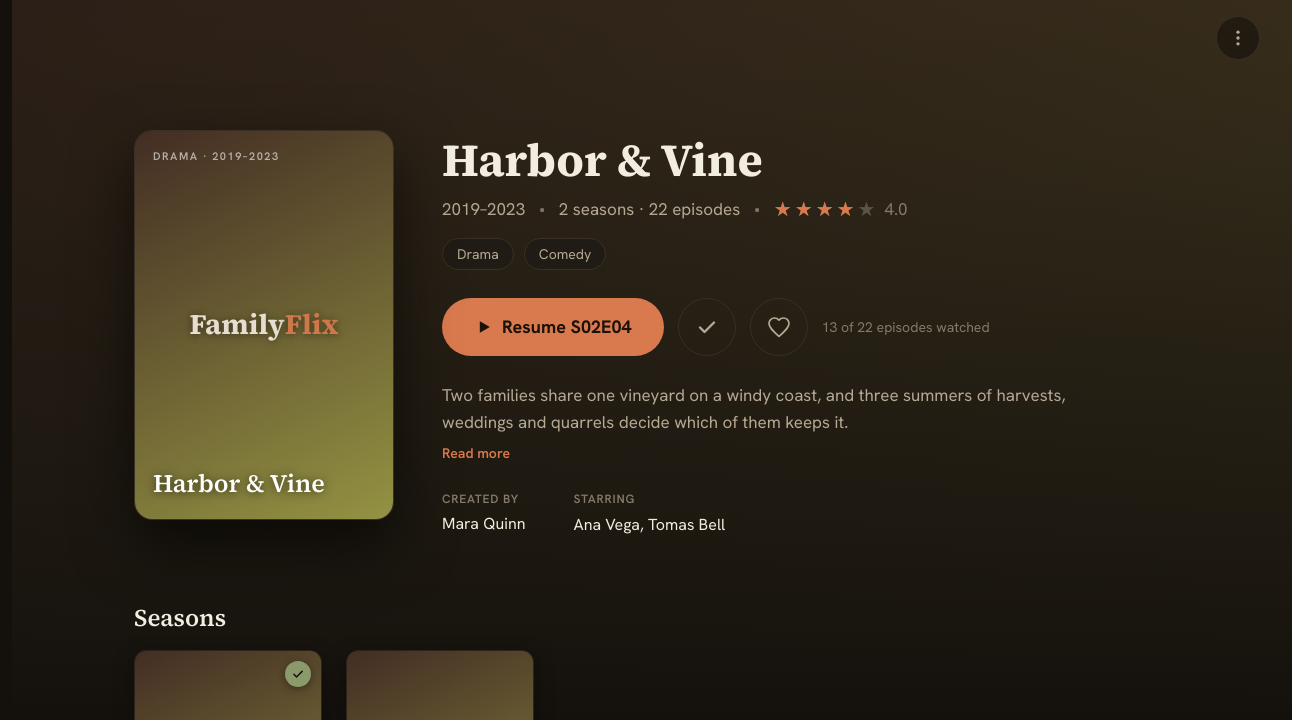
Test: SeriesDetail — the button and the progress line › opens the player on the part-watched episode it names, as a push
This screenshot has width=1292, height=720.
Click the button "Resume S02E04". click: (553, 327)
box: [442,298,664,356]
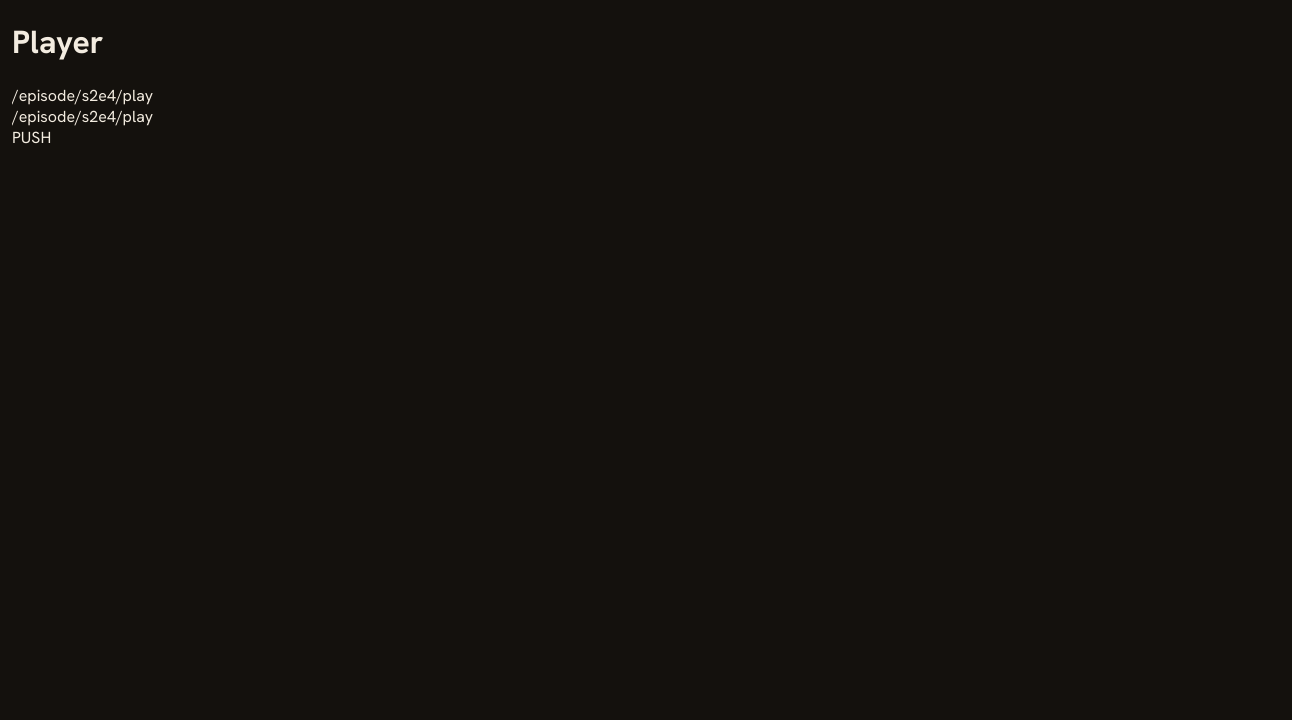
Expected: the text with test id "pathname" reads "/episode/s2e4/play", [12,85,153,106]
Expected: the text with test id "navigationType" reads "PUSH", [12,127,51,148]
